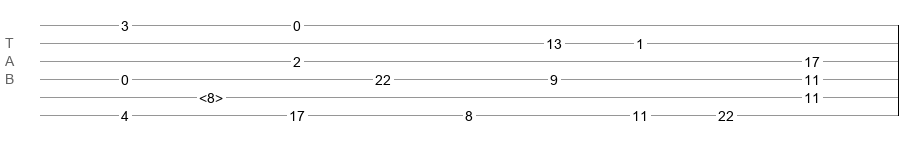0: (121, 72, 129, 82), (293, 18, 301, 28)
1: (636, 36, 644, 46)
11: (632, 108, 648, 118), (804, 90, 820, 100), (804, 72, 820, 82)
13: (546, 36, 562, 46)
17: (289, 108, 305, 118), (804, 54, 820, 64)
2: (293, 54, 301, 64)
22: (375, 72, 391, 82), (718, 108, 734, 118)
3: (121, 18, 129, 28)
4: (121, 108, 129, 118)
8: (465, 108, 473, 118)
9: (550, 72, 558, 82)
harmonic: (199, 90, 223, 100)
